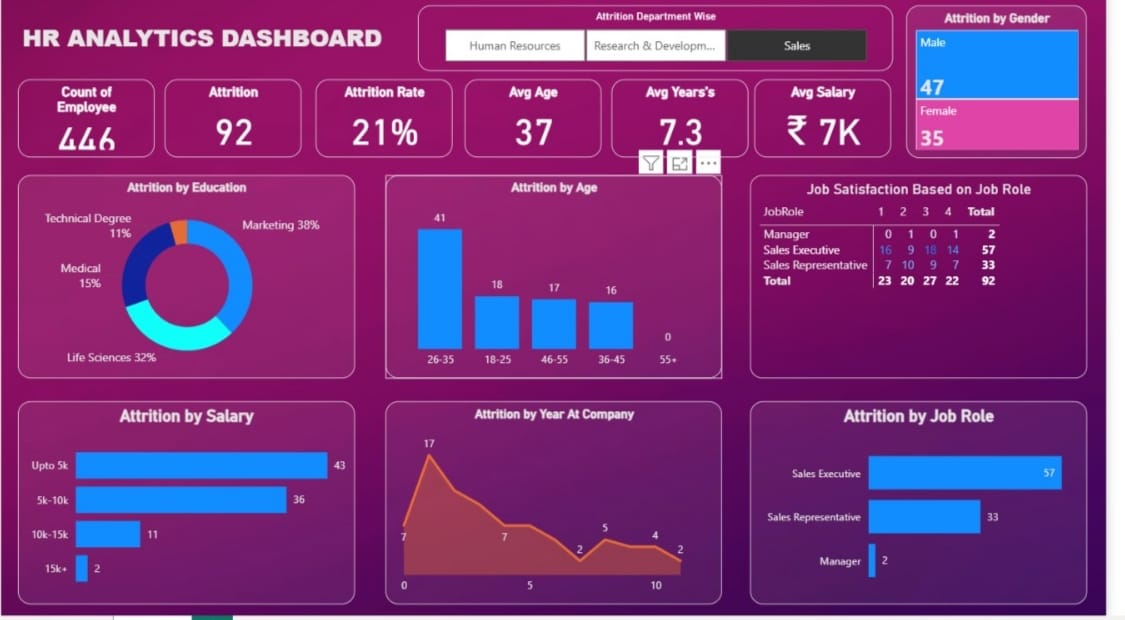

What the dashboard file says about the page in this screenshot:
{"tool":"powerbi","page":{"name":"Page 1","canvas":[1280,720],"ordinal":0},"visuals":[{"type":"card","title":"Count of Employee","fields":{"Values":["CountNonNull(HR_Analytics.EmpID)"]},"box":[19,99.2,158,90.5],"z":0},{"type":"card","title":"Attrition","fields":{"Values":["Sum(HR_Analytics.AttritionCount)"]},"box":[189.7,99.2,158,90.5],"z":1000},{"type":"card","title":"Attrition Rate","fields":{"Values":["HR_Analytics.AttritionRate"]},"box":[364.9,99.2,158,90.5],"z":2000},{"type":"card","title":"Avg Age","fields":{"Values":["Avg(HR_Analytics.Age)"]},"box":[537.1,99.2,158,90.5],"z":3000},{"type":"card","title":"Avg Salary","fields":{"Values":["Avg(HR_Analytics.MonthlyIncome)"]},"box":[872.8,99.2,158,90.5],"z":4000},{"type":"donutChart","title":"Attrition by Education","fields":{"Category":["HR_Analytics.EducationField"],"Y":["Sum(HR_Analytics.AttritionCount)"]},"box":[19,210.2,390,235],"z":5000},{"type":"columnChart","title":"Attrition by Age ","fields":{"Category":["HR_Analytics.AgeGroup"],"Y":["Sum(HR_Analytics.AttritionCount)"]},"box":[445.2,210.2,389.7,235],"z":6000},{"type":"pivotTable","title":"Job Satisfaction Based on Job Role","fields":{"Rows":["HR_Analytics.JobRole"],"Columns":["HR_Analytics.JobSatisfaction"],"Values":["Sum(HR_Analytics.AttritionCount)"]},"box":[867,210.2,390,235],"z":7000},{"type":"barChart","title":"Attrition by Salary","fields":{"Category":["HR_Analytics.SalarySlab"],"Y":["Sum(HR_Analytics.AttritionCount)"]},"box":[19,471.4,390,235],"z":8000},{"type":"barChart","title":"Attrition by Job Role","fields":{"Category":["HR_Analytics.JobRole","HR_Analytics.SalarySlab"],"Y":["Sum(HR_Analytics.AttritionCount)"]},"box":[867,471.4,390,235],"z":9000},{"type":"areaChart","title":"Attrition by Year At Company ","fields":{"Category":["HR_Analytics.YearsAtCompany"],"Y":["Sum(HR_Analytics.AttritionCount)"]},"box":[445.2,471.4,389.7,235],"z":10000},{"type":"treemap","title":"Attrition by  Gender","fields":{"Group":["HR_Analytics.Gender"],"Values":["Sum(HR_Analytics.AttritionCount)"]},"box":[1047.9,13.1,208.7,176.6],"z":11000},{"type":"card","title":"Avg Years''s","fields":{"Values":["Avg(HR_Analytics.YearsAtCompany)"]},"box":[706.4,99.2,158,90.5],"z":12000},{"type":"slicer","title":"Attrition Department Wise","fields":{"Values":["HR_Analytics.Department"]},"box":[483.1,13.1,550,76],"z":13000},{"type":"textbox","box":[0,26.3,465.6,49.6],"z":14000}]}

Visuals, with their boxes in screenshot pixels (x1, y1, x2, y2), scaled from the page's 1280x720 canvas onto the 1125x620 screenshot:
"Count of Employee" card: left=17, top=85, right=156, bottom=163
"Attrition" card: left=167, top=85, right=306, bottom=163
"Attrition Rate" card: left=321, top=85, right=460, bottom=163
"Avg Age" card: left=472, top=85, right=611, bottom=163
"Avg Salary" card: left=767, top=85, right=906, bottom=163
"Attrition by Education" donutChart: left=17, top=181, right=359, bottom=383
"Attrition by Age " columnChart: left=391, top=181, right=734, bottom=383
"Job Satisfaction Based on Job Role" pivotTable: left=762, top=181, right=1105, bottom=383
"Attrition by Salary" barChart: left=17, top=406, right=359, bottom=608
"Attrition by Job Role" barChart: left=762, top=406, right=1105, bottom=608
"Attrition by Year At Company " areaChart: left=391, top=406, right=734, bottom=608
"Attrition by  Gender" treemap: left=921, top=11, right=1104, bottom=163
"Avg Years''s" card: left=621, top=85, right=760, bottom=163
"Attrition Department Wise" slicer: left=425, top=11, right=908, bottom=77
textbox: left=0, top=23, right=409, bottom=65
